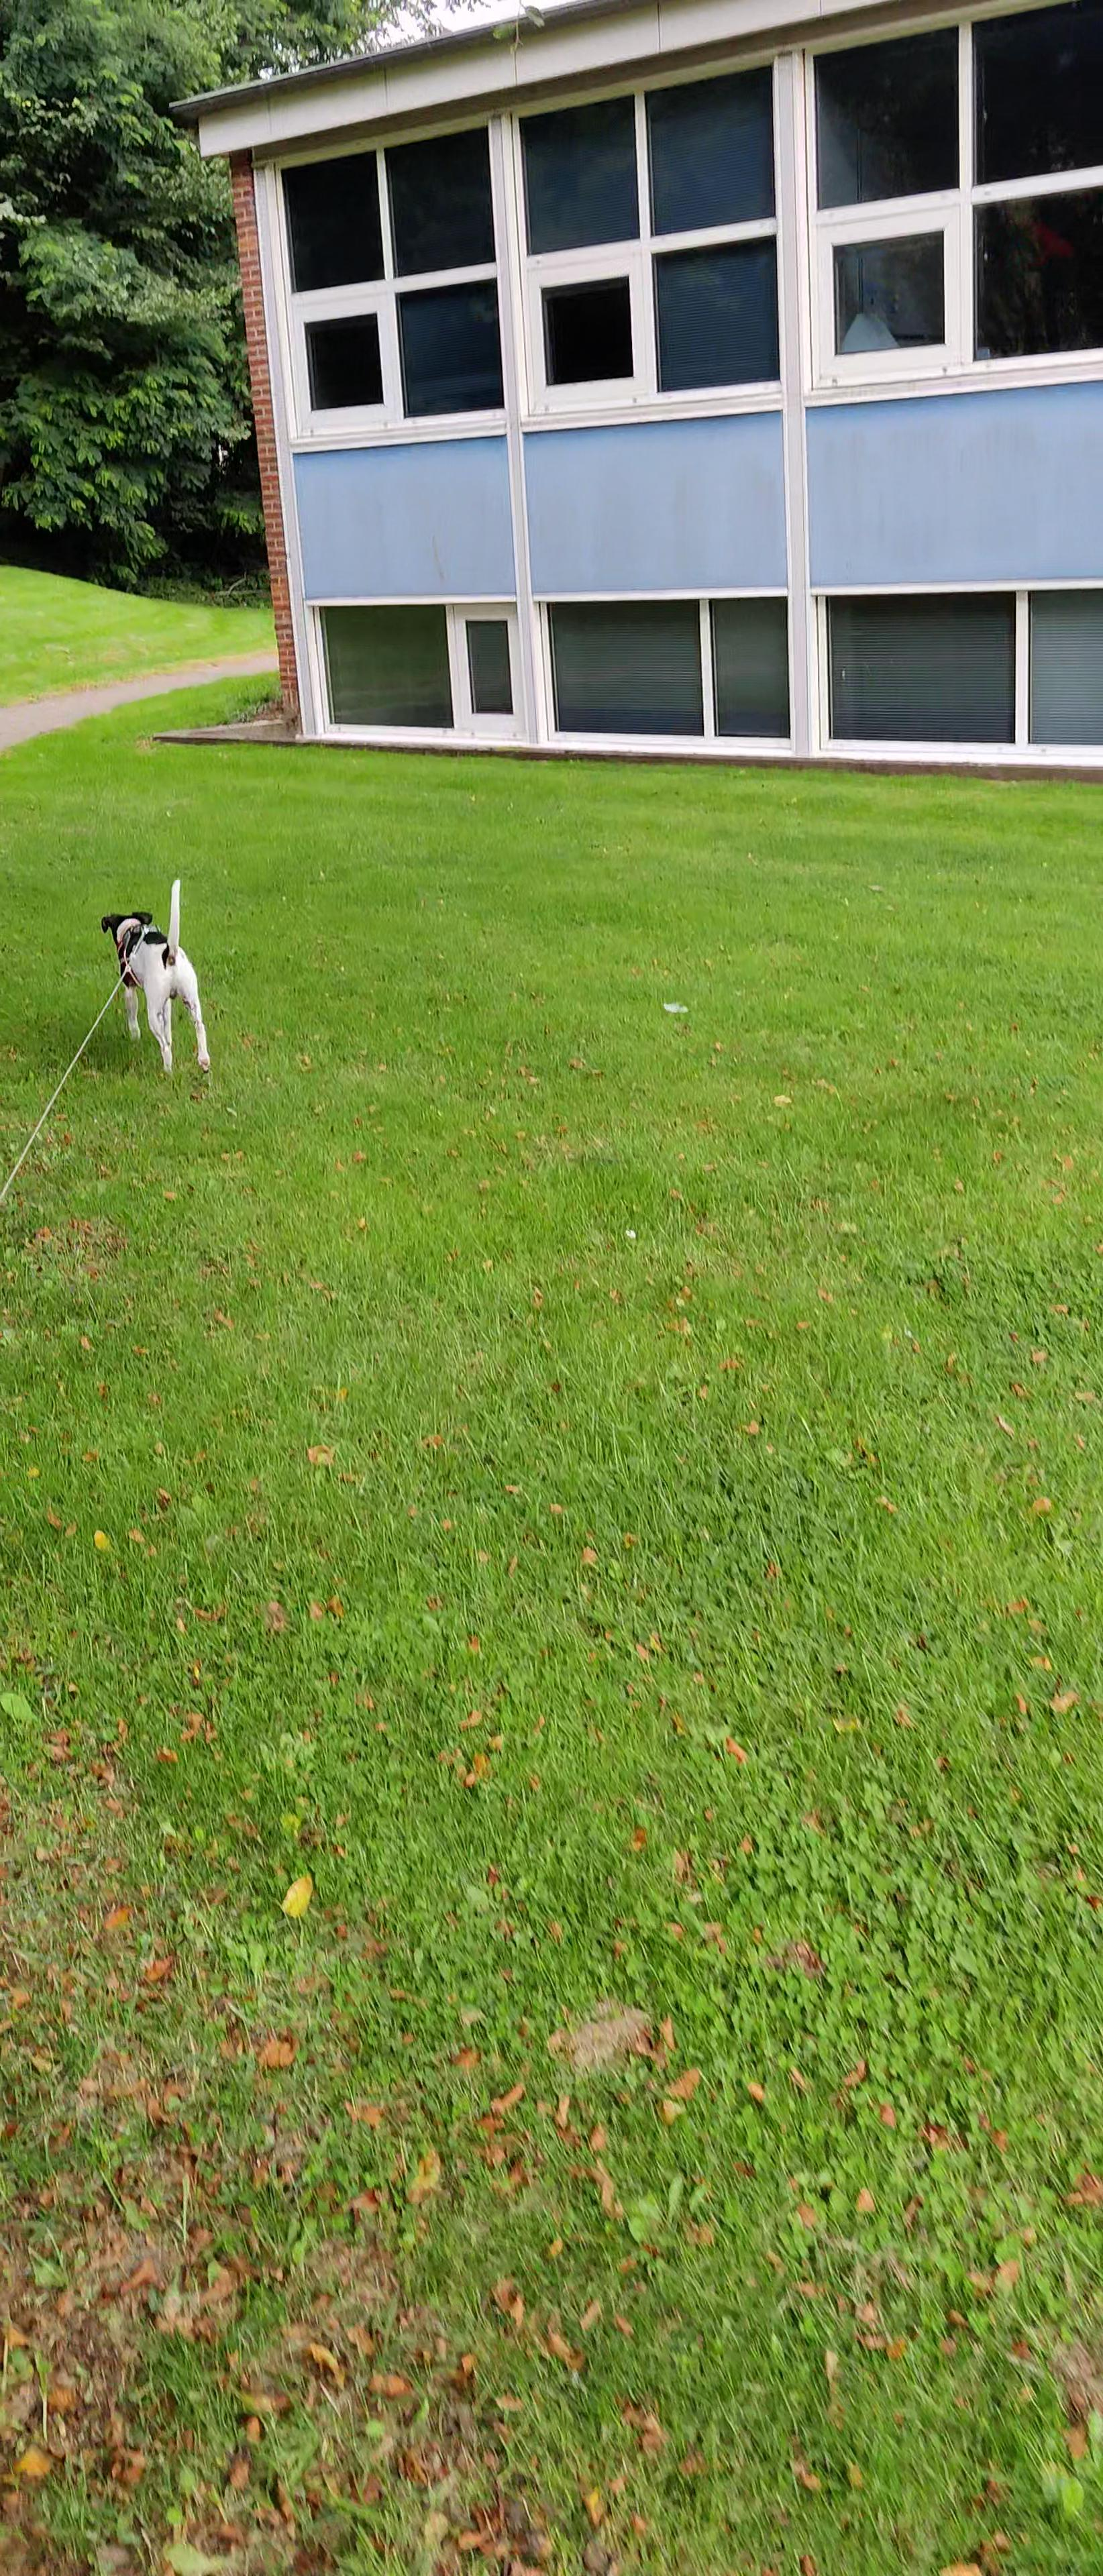Dog: (95, 872, 212, 1079)
